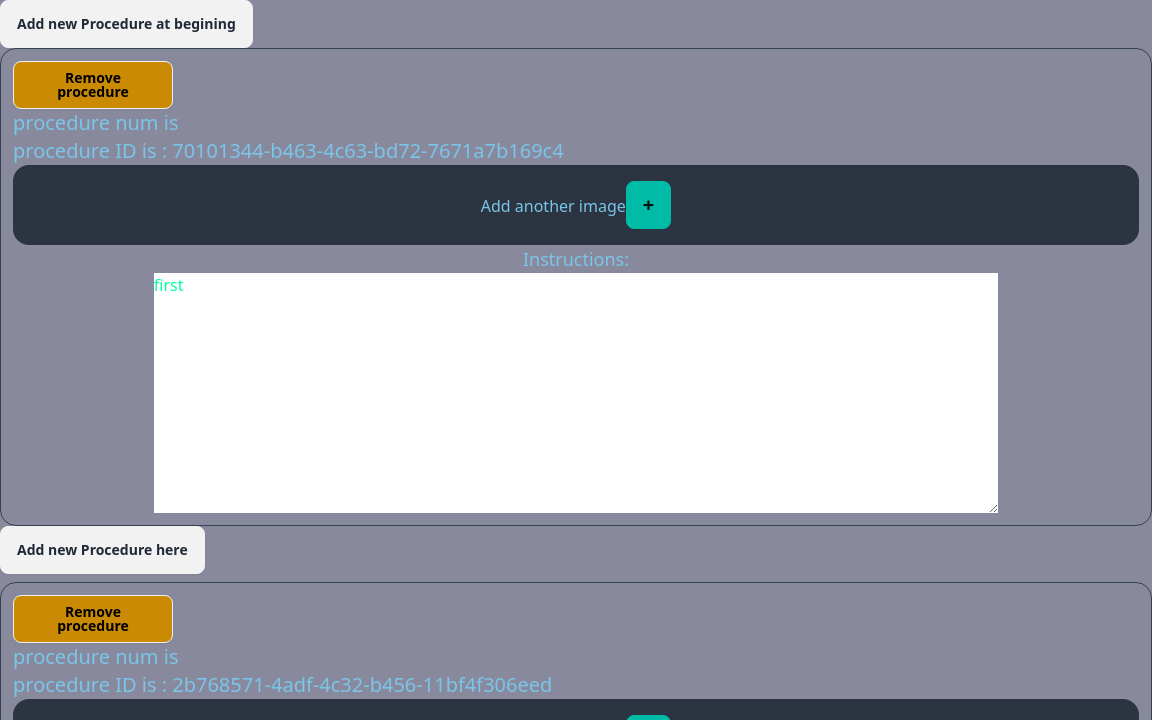
Test: EditProcedureList › should add procedure
Step 1. Click the button with test id "add-procedure-btn" → (102, 550), box [0, 526, 205, 574]
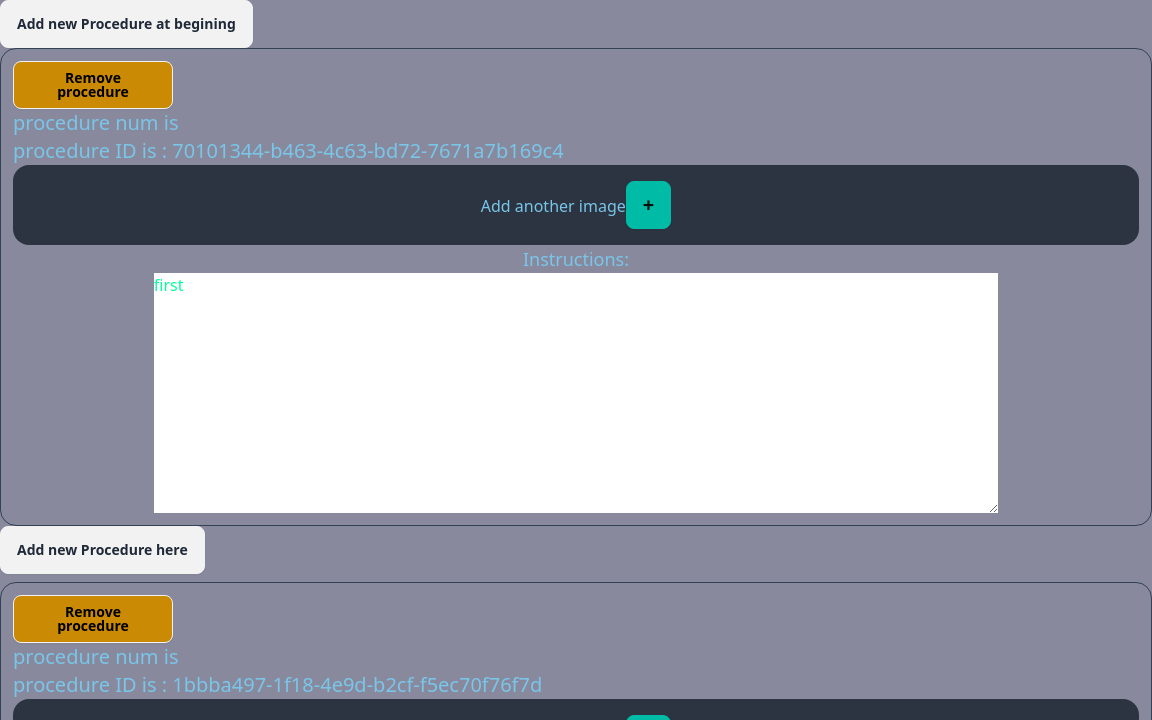
Result: the number of elements with test id "edit-procedure-card" is 5
